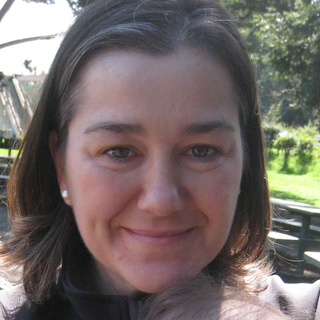eye: (97, 140, 146, 164), (174, 139, 223, 163)
